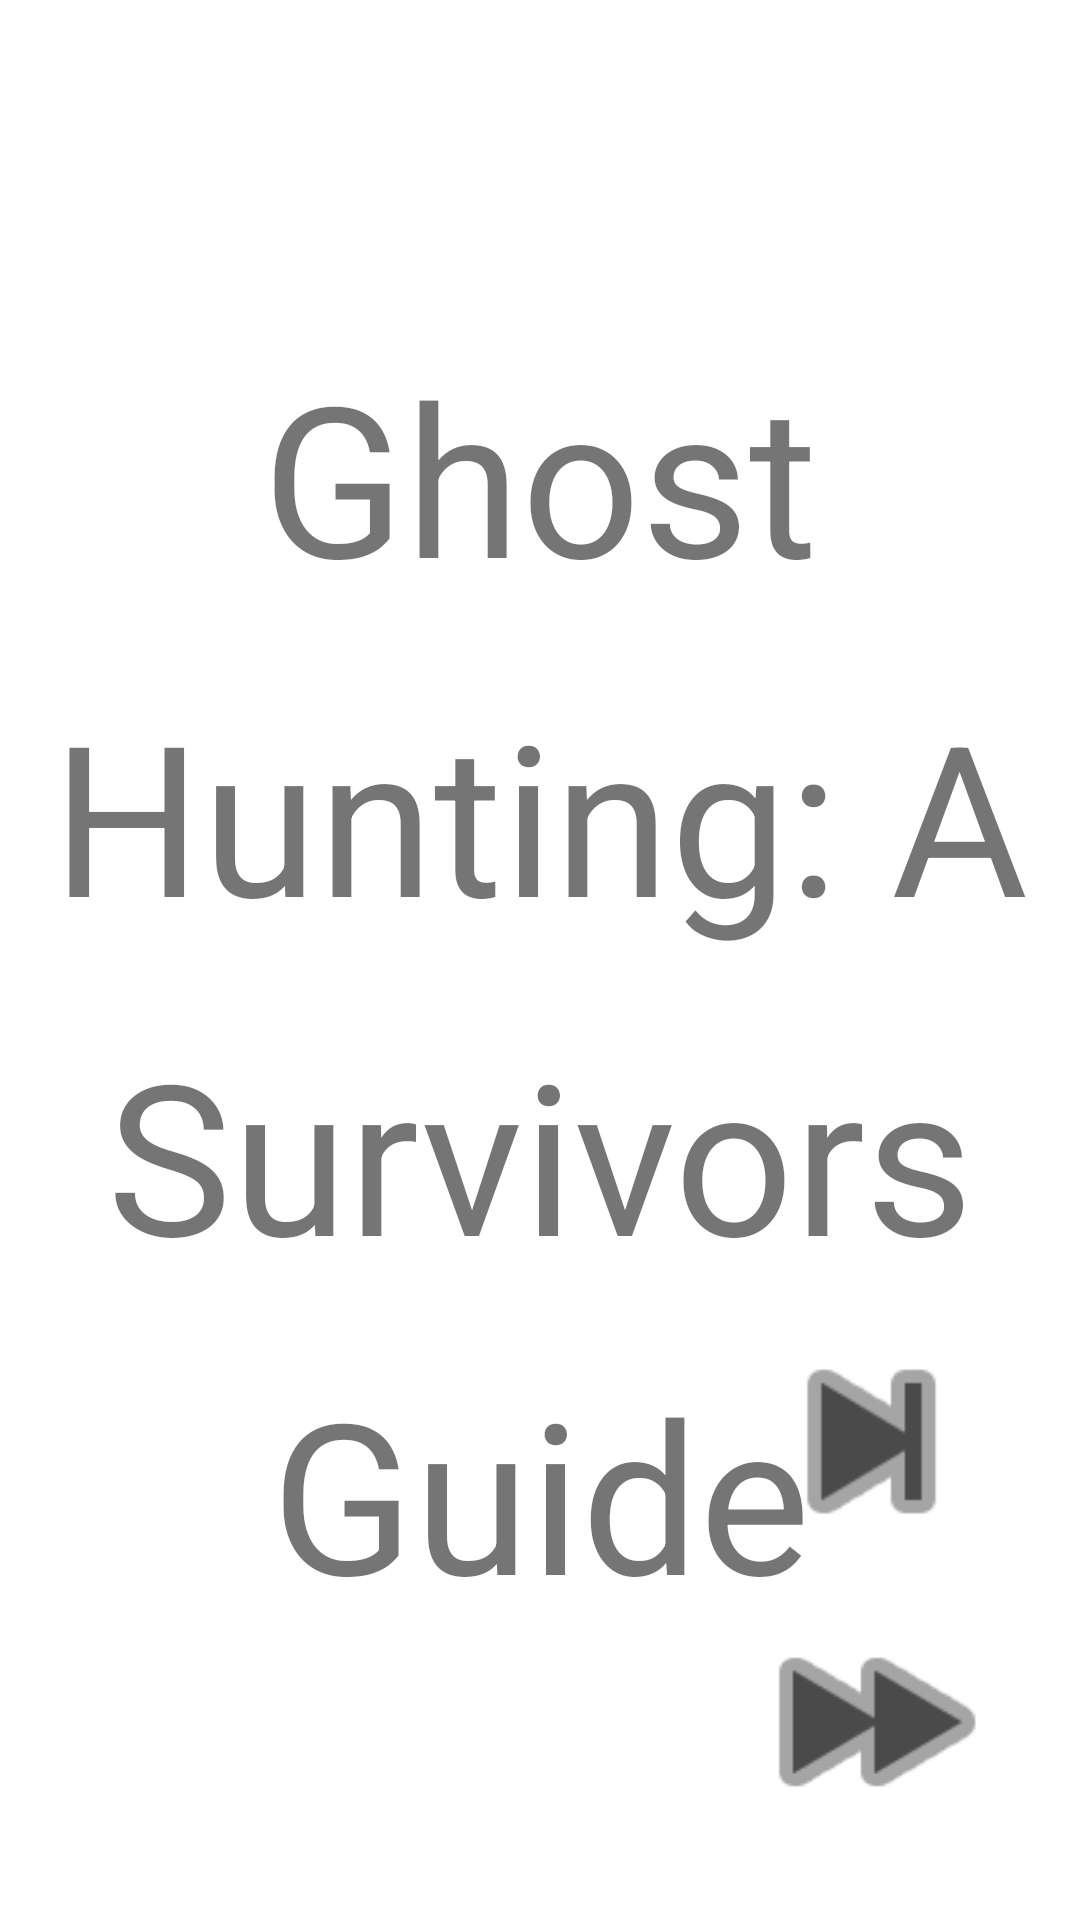

Screen size 1080x1920. Icon name, then its center in pixels as [x,y]:
next: [871,1441]
